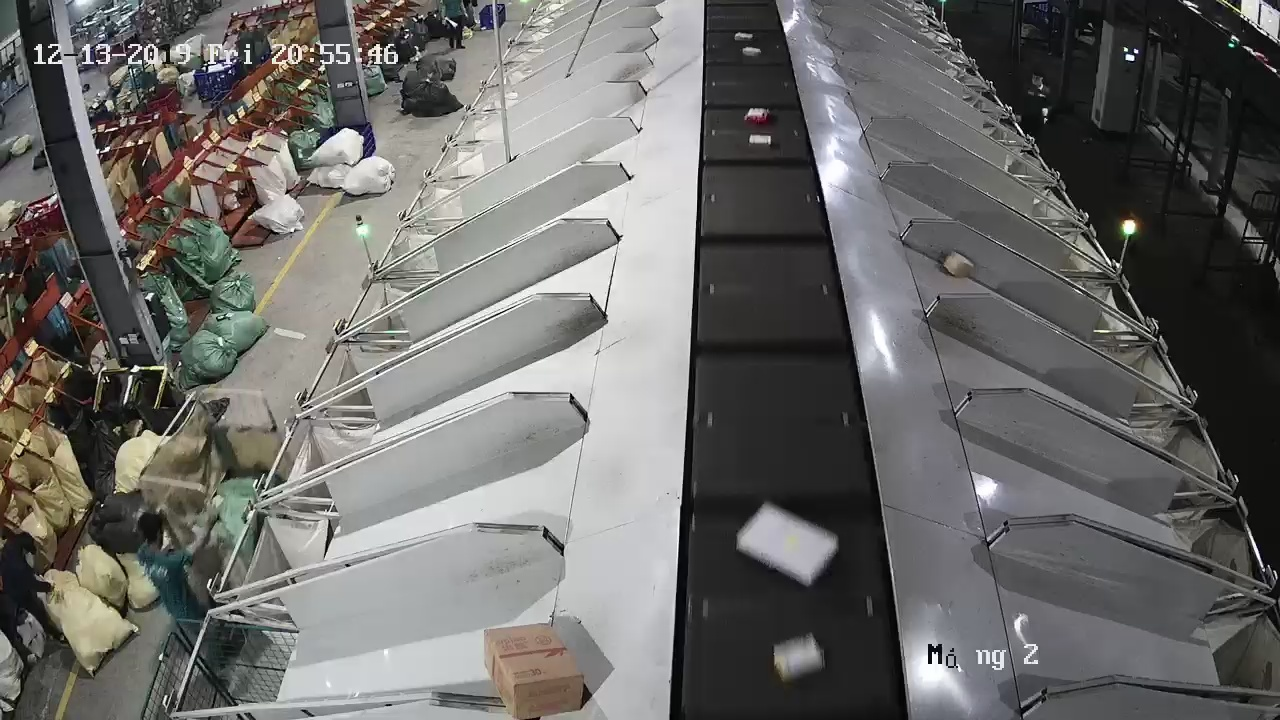parcel: (941, 250, 975, 278)
